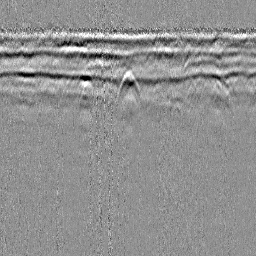cavity: (115, 67, 144, 105)
